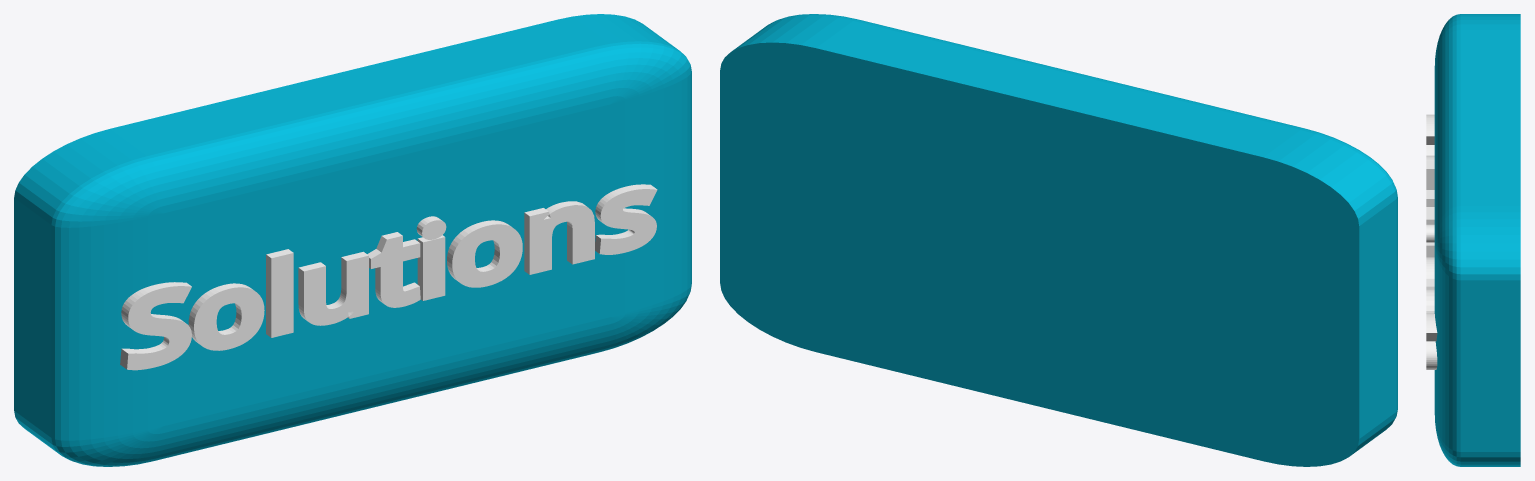
The model's file is tinker.obj.
3 views of the same model, side by side, from view 1: azimuth 30°, elevation 25°; view 2: azimuth 150°, elevation 25°; view 3: azimuth 270°, elevation 25° (orthographic). The views are drawn at different scales.
Visible parts, largest first — view 1: group_0_48093, group_0_16448250; view 2: group_0_48093; view 3: group_0_48093, group_0_16448250.
Part boxes in pixels (<box>): group_0_48093: <box>14,14,691,466</box>; group_0_16448250: <box>120,184,657,370</box>; group_0_48093: <box>720,14,1397,466</box>; group_0_48093: <box>1434,14,1520,466</box>; group_0_16448250: <box>1426,114,1437,369</box>.
Bounding box in the file's own units: 44 × 20 × 7.
